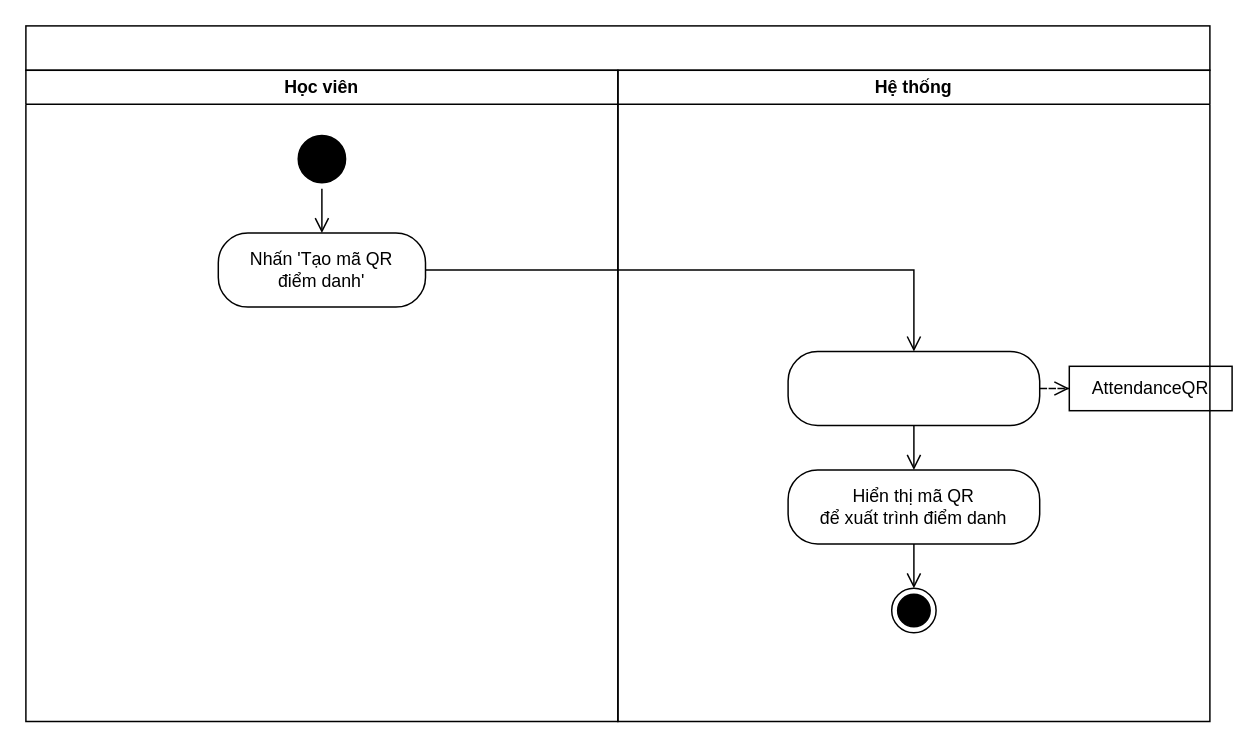
The diagram is 1258 pixels wide and 747 high, and some of its shapes have lost their labels. Each missing label, with the centre of its shape:
"Sinh mã QR điểm danh cá nhân" belongs at (913,388).
"TẠO MÃ QR ĐIỂM DANH" belongs at (617,47).
